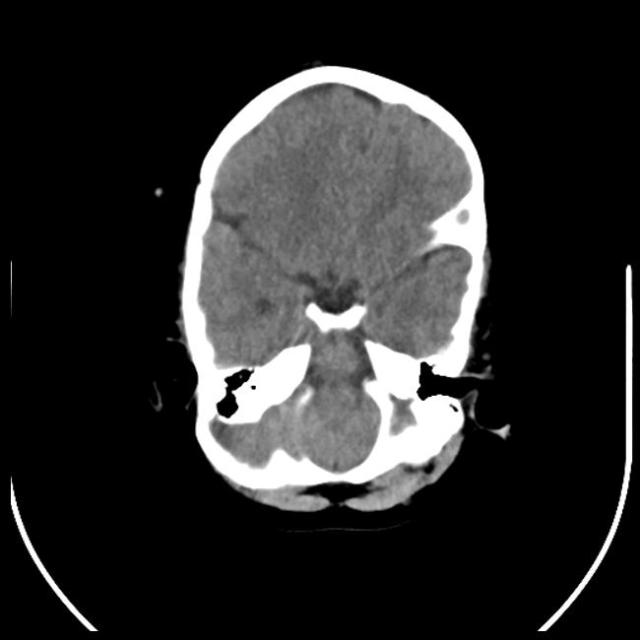lesion: (207, 312, 351, 473)
